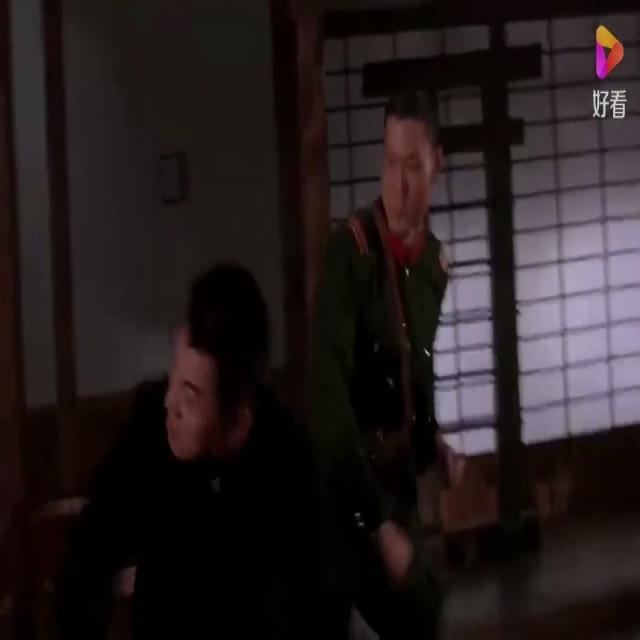fight: (79, 91, 471, 638)
